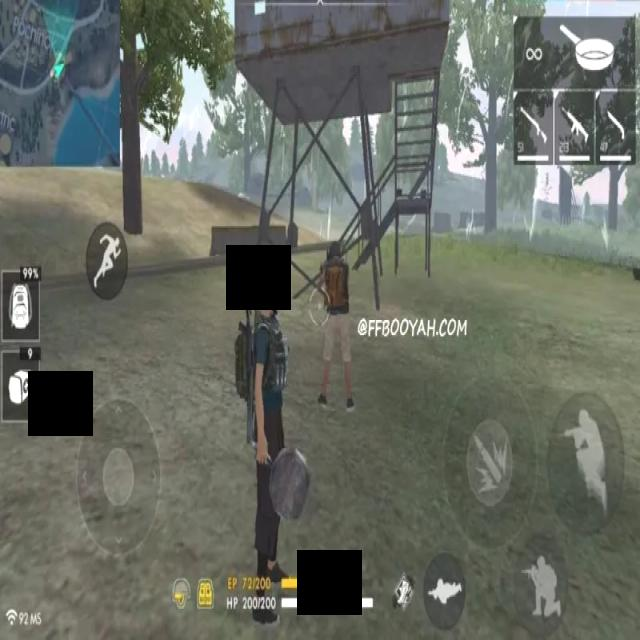character: (320, 238, 357, 411)
